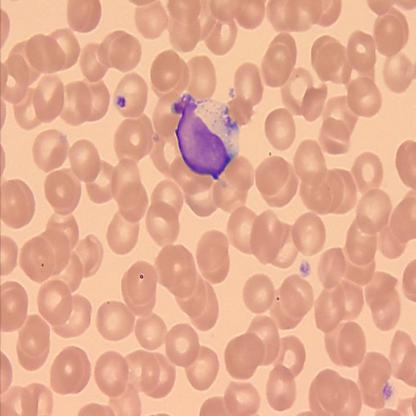Atypical lymphocyte: (172, 90, 239, 182)
